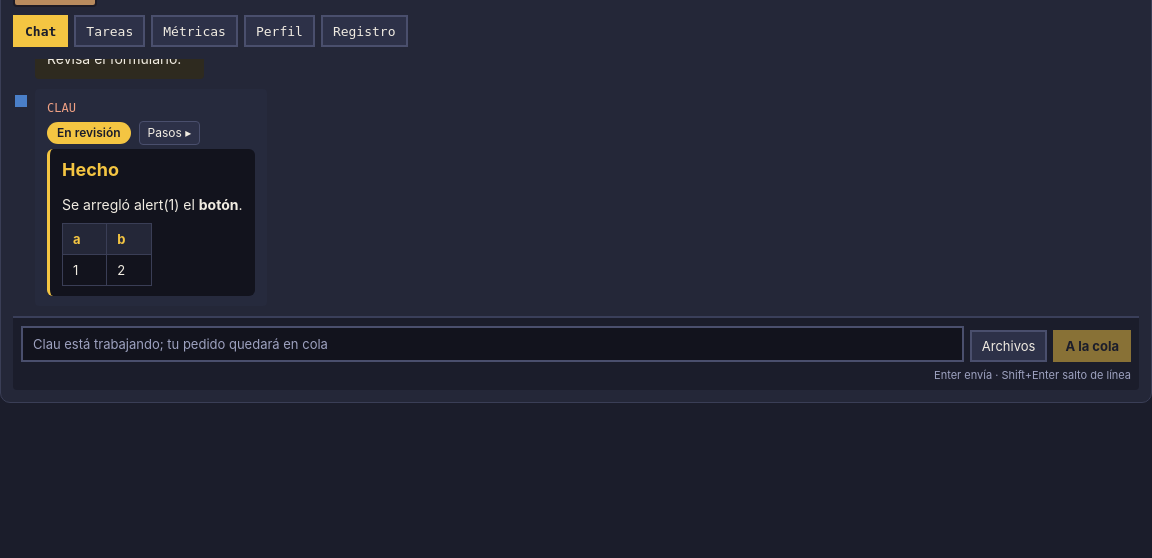
Test: AgentTabs › el buscador filtra las skills
(page scrolled)
Click the tab "Perfil" at [279, 31], box [244,15,315,47]
(page scrolled)
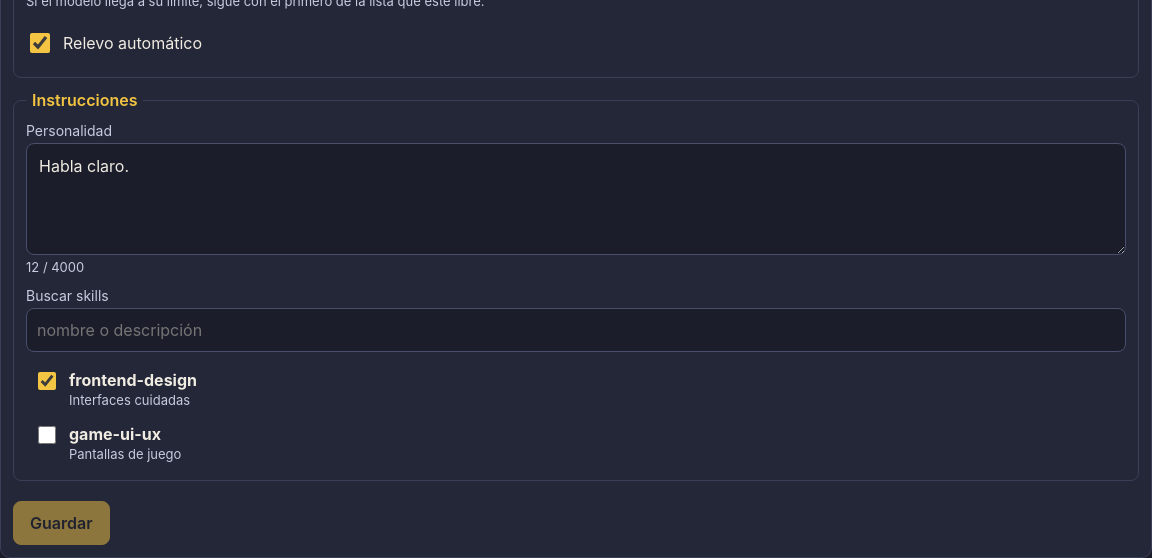
Result: the text "Pantallas de juego" is shown at [69,446,181,462]
Type "juego" into the search field labelled "Buscar skills" at [576, 330], box [26,308,1126,352]
(page scrolled)
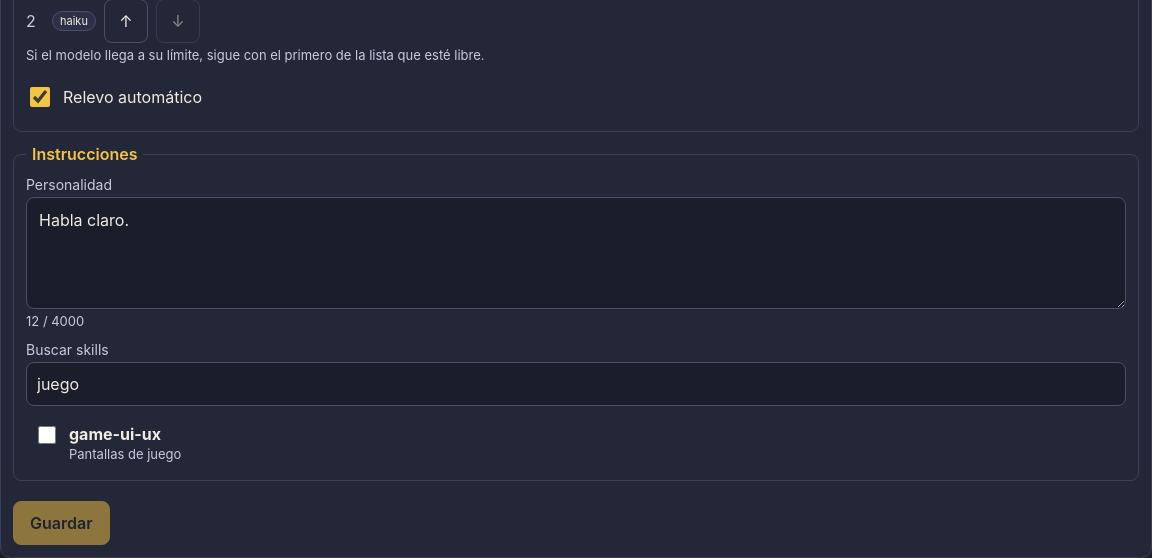
Result: the text "Pantallas de juego" is shown at [69,446,181,462]
Result: the text "Interfaces cuidadas" is gone
